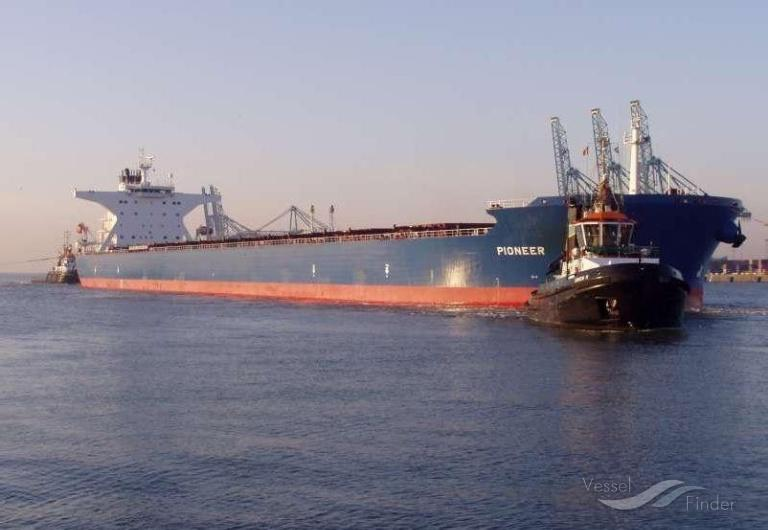OCR: (492, 238, 554, 262)
